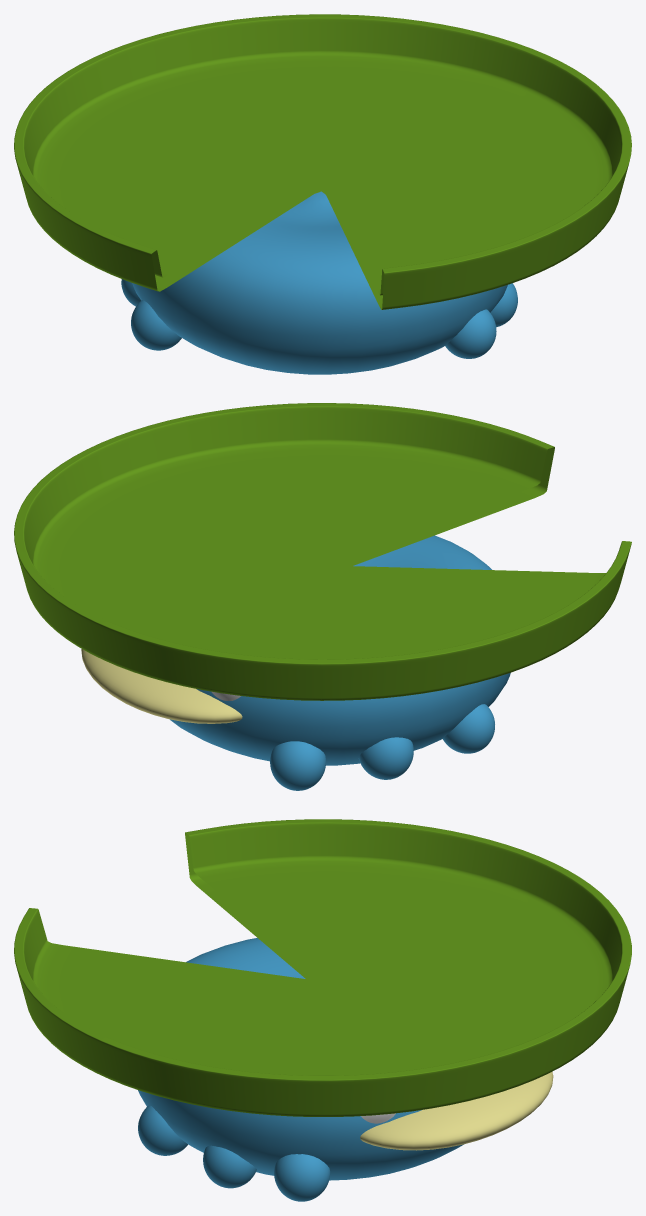
The model's file is lotad_smoothed.fbx.
3 renders of one model, top to bottom at view 1: azimuth 30°, elevation 25°; view 2: azimuth 150°, elevation 25°; view 3: azimuth 270°, elevation 25°, orthographic.
Parts seen in each view (by area): view 1: Lotad_mesh7; view 2: Lotad_mesh7; view 3: Lotad_mesh7.
Part boxes in pixels (x1,y1,x2,y2): Lotad_mesh7: (14, 14, 631, 374); Lotad_mesh7: (14, 403, 631, 790); Lotad_mesh7: (14, 819, 631, 1201).
Size of the model in its own units: 14.51 by 5.16 by 14.51.
